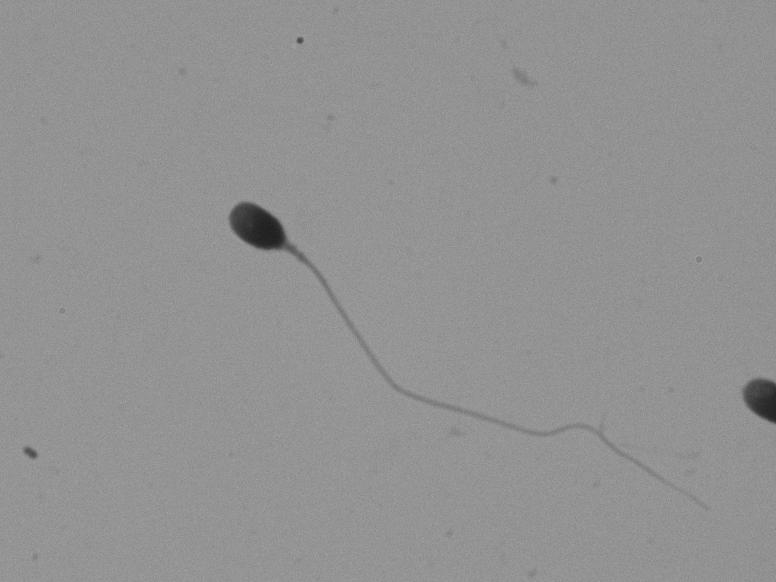Normal: (170, 157, 686, 491)
